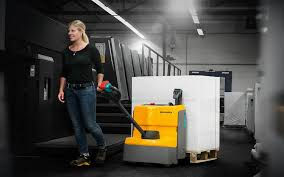Pallet Jack: (96, 80, 220, 167)
